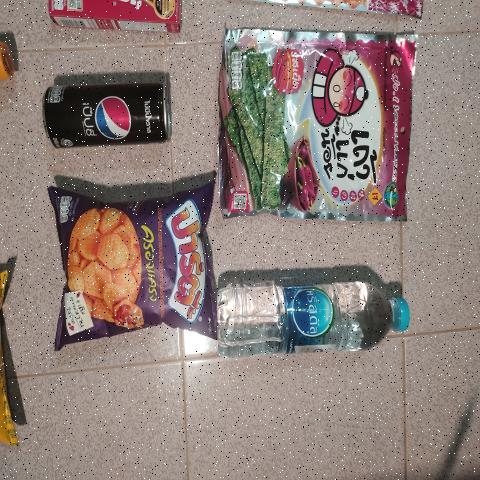crystal: (212, 261, 407, 356)
party_purple: (62, 201, 212, 330)
pepsi_black: (40, 80, 172, 148)
taokaenoi: (226, 32, 404, 212)
